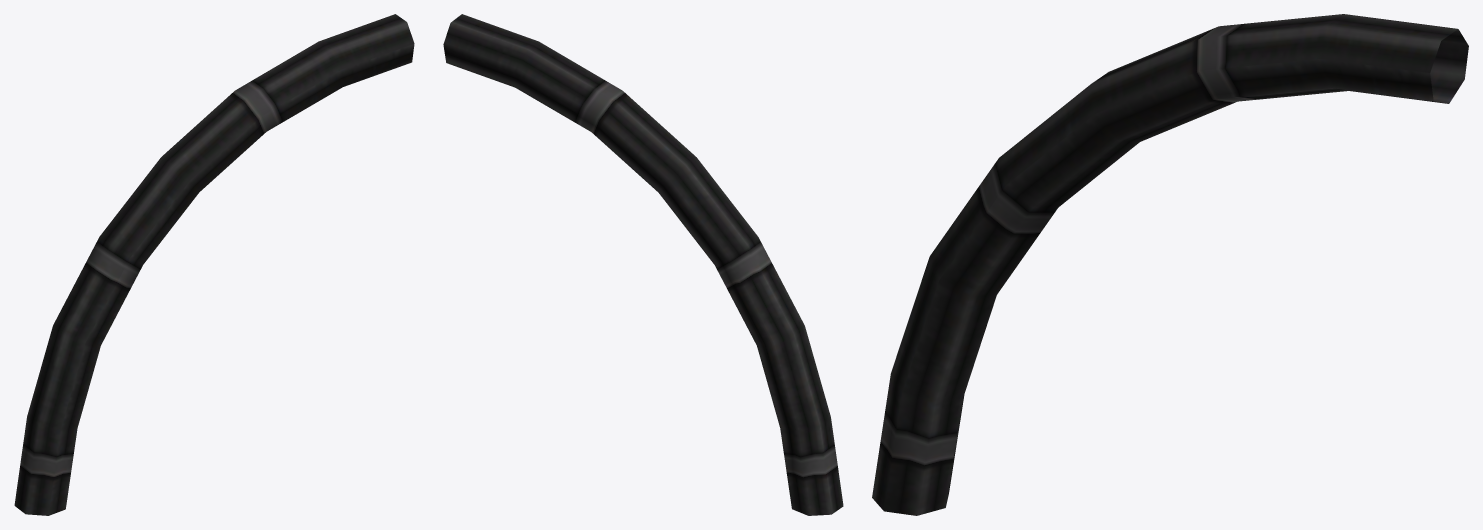
File: lab_thick_turn_90_med.dae
The picture shows the model from 3 angles, left to right: view 1: azimuth 30°, elevation 25°; view 2: azimuth 150°, elevation 25°; view 3: azimuth 330°, elevation 25°; orthographic projection. The views are drawn at different scales.
Parts seen in each view (by area): view 1: turn_90_med; view 2: turn_90_med; view 3: turn_90_med.
Boxes of the visible parts, x1=… form: turn_90_med: x1=14, y1=14, x2=414, y2=515; turn_90_med: x1=443, y1=14, x2=843, y2=515; turn_90_med: x1=872, y1=14, x2=1468, y2=515.
Bounding box in the file's own units: 1.06 × 1.06 × 0.1254.
